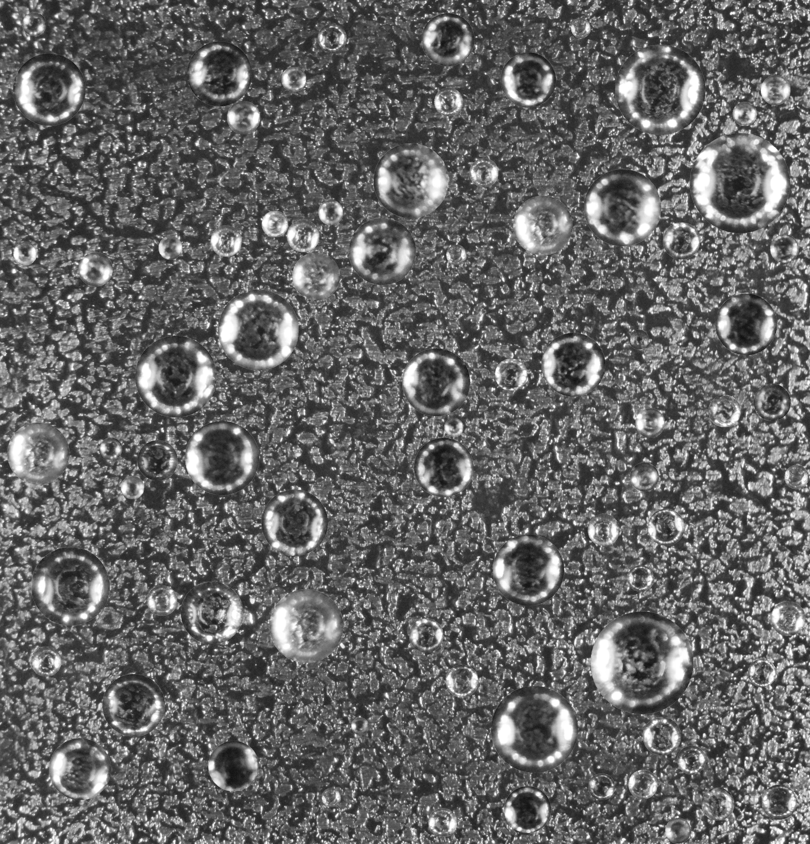Bubble: (590, 611, 693, 714), (690, 133, 790, 233), (615, 44, 705, 134), (491, 686, 577, 772), (135, 335, 216, 417), (218, 289, 298, 370), (31, 547, 109, 625), (584, 169, 661, 246), (373, 143, 448, 218), (185, 421, 259, 495), (269, 589, 343, 662), (13, 53, 85, 125), (492, 534, 564, 605), (402, 348, 470, 416), (348, 217, 415, 284), (261, 489, 327, 555), (187, 41, 251, 106), (541, 332, 605, 396), (180, 581, 243, 644), (7, 422, 69, 484), (715, 293, 777, 355), (102, 674, 164, 736), (49, 738, 110, 800), (414, 437, 473, 497), (513, 195, 572, 255), (500, 52, 555, 107), (421, 13, 474, 65), (208, 741, 258, 791), (292, 252, 339, 300), (504, 786, 551, 833), (137, 440, 177, 480), (642, 717, 681, 755), (663, 222, 700, 259), (647, 508, 684, 545), (753, 383, 790, 420), (770, 601, 805, 636), (761, 784, 796, 819), (409, 618, 443, 652), (78, 252, 112, 286), (701, 787, 734, 820), (445, 664, 478, 697), (227, 101, 260, 134), (287, 219, 319, 252), (708, 394, 740, 427), (495, 358, 527, 390), (587, 514, 619, 545), (210, 225, 241, 256), (30, 646, 61, 676), (146, 585, 177, 615), (317, 23, 346, 52), (469, 158, 498, 187), (635, 408, 664, 437), (428, 808, 457, 837), (628, 770, 657, 799), (761, 75, 790, 104), (677, 745, 705, 774), (434, 87, 462, 116), (630, 462, 658, 491), (748, 659, 776, 687), (770, 234, 798, 262), (588, 773, 615, 800), (261, 210, 288, 237), (627, 565, 653, 591), (281, 66, 306, 91), (665, 818, 690, 843), (318, 200, 343, 224), (120, 475, 144, 499), (732, 101, 756, 125), (784, 465, 808, 489), (22, 12, 46, 35), (158, 236, 182, 259), (13, 241, 36, 265), (99, 437, 122, 459), (446, 244, 466, 265), (629, 329, 648, 349), (444, 418, 463, 437), (571, 18, 590, 37), (321, 788, 340, 807), (351, 717, 368, 734), (536, 636, 546, 646)
